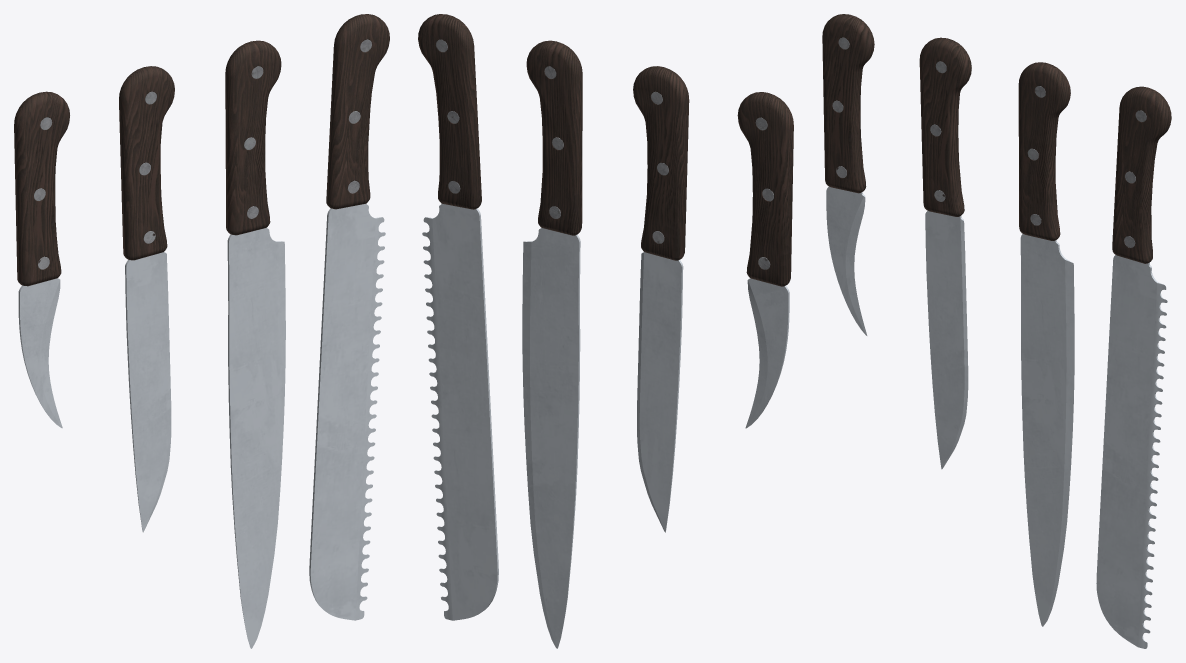
File: knives.glb
3 views of the same model, side by side, from view 1: azimuth 30°, elevation 25°; view 2: azimuth 150°, elevation 25°; view 3: azimuth 330°, elevation 25° (orthographic). The views are drawn at different scales.
Visible parts, largest first — view 1: bread, slicing, utility, paring; view 2: bread, slicing, utility, paring; view 3: bread, slicing, utility, paring.
Part boxes in pixels (x1,y1,x2,y2): bread: [309, 14, 389, 620]; slicing: [225, 40, 285, 648]; utility: [119, 66, 174, 532]; paring: [14, 91, 69, 428]; bread: [418, 14, 498, 620]; slicing: [522, 40, 582, 648]; utility: [633, 66, 689, 532]; paring: [737, 92, 793, 428]; bread: [1096, 86, 1171, 648]; slicing: [1018, 62, 1074, 626]; utility: [919, 37, 971, 469]; paring: [822, 14, 874, 335].
Bounding box in the file's own units: 0.2483 × 0.3859 × 0.0107.
Materials: 3 (3 with a texture image).
